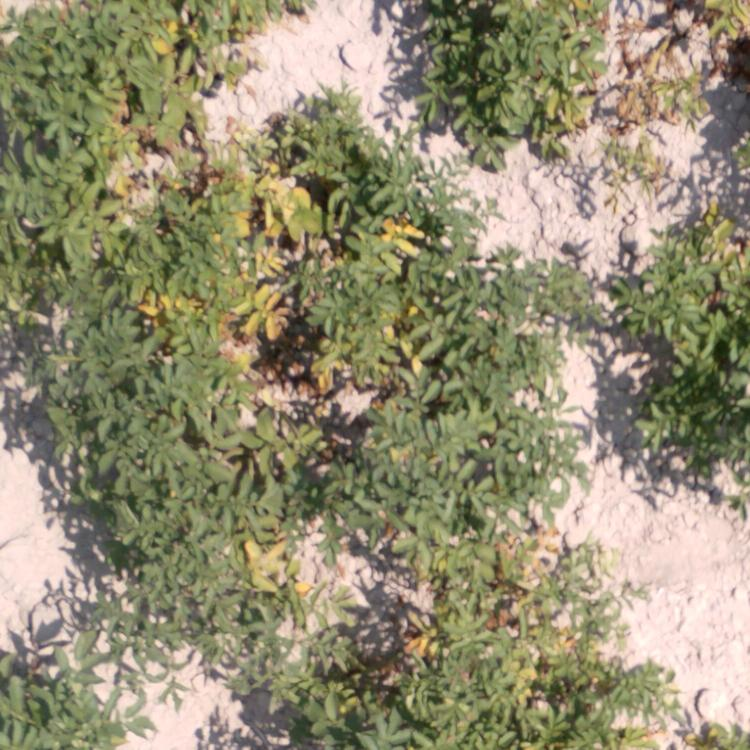healthy: (18, 367, 278, 496), (295, 392, 578, 506), (436, 186, 570, 380), (120, 499, 231, 680), (1, 13, 73, 244), (1, 248, 136, 366), (244, 652, 422, 740), (414, 1, 520, 140), (1, 626, 116, 747), (86, 1, 130, 57)
stressed: (264, 94, 412, 391), (618, 207, 750, 502), (393, 512, 599, 674), (138, 151, 262, 366), (623, 1, 750, 124), (143, 1, 254, 140), (243, 506, 365, 624), (438, 681, 641, 746), (532, 1, 612, 137), (86, 64, 133, 233)
